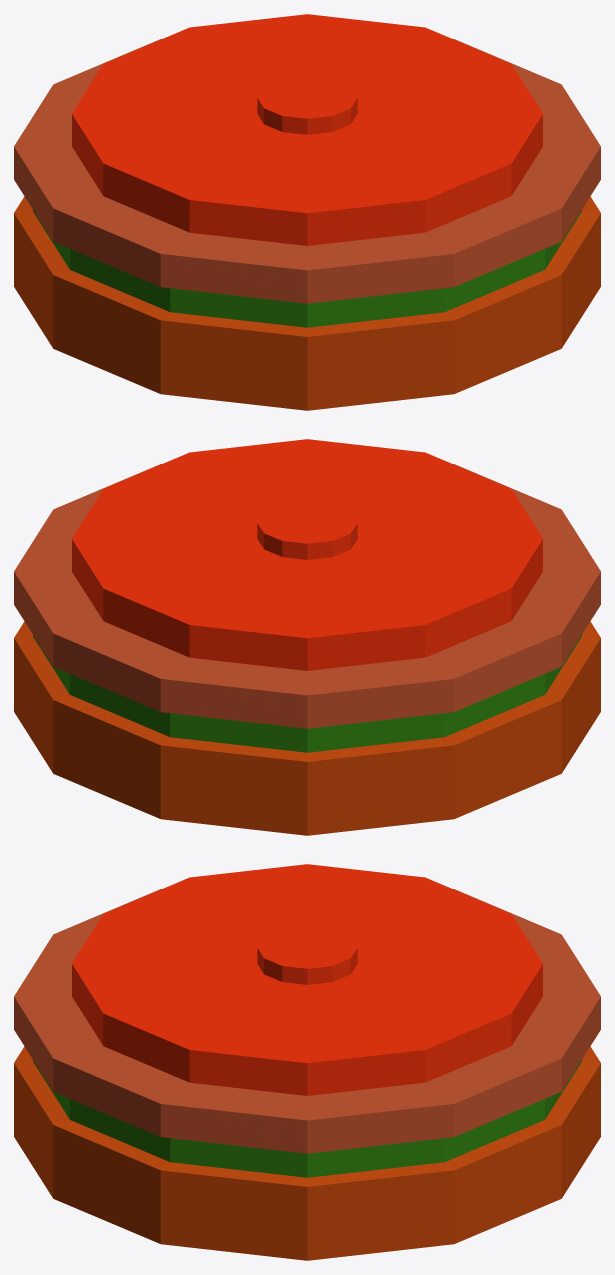
The model's file is Mine.fbx.
3 renders of one model, top to bottom at view 1: azimuth 30°, elevation 25°; view 2: azimuth 150°, elevation 25°; view 3: azimuth 270°, elevation 25°, orthographic.
Visible parts, largest first — view 1: Mine_Red; view 2: Mine_Red; view 3: Mine_Red.
Boxes of the visible parts, x1,y1,x2,y2 form: Mine_Red: [14, 14, 600, 410]; Mine_Red: [14, 439, 600, 835]; Mine_Red: [14, 864, 600, 1260].
Bounding box in the file's own units: 1.18 × 0.4201 × 1.18.
